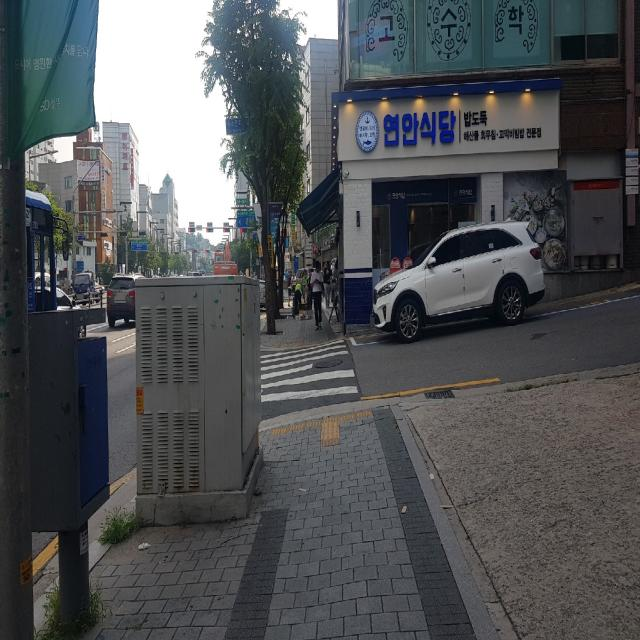횡단보도: (260, 338, 359, 404)
